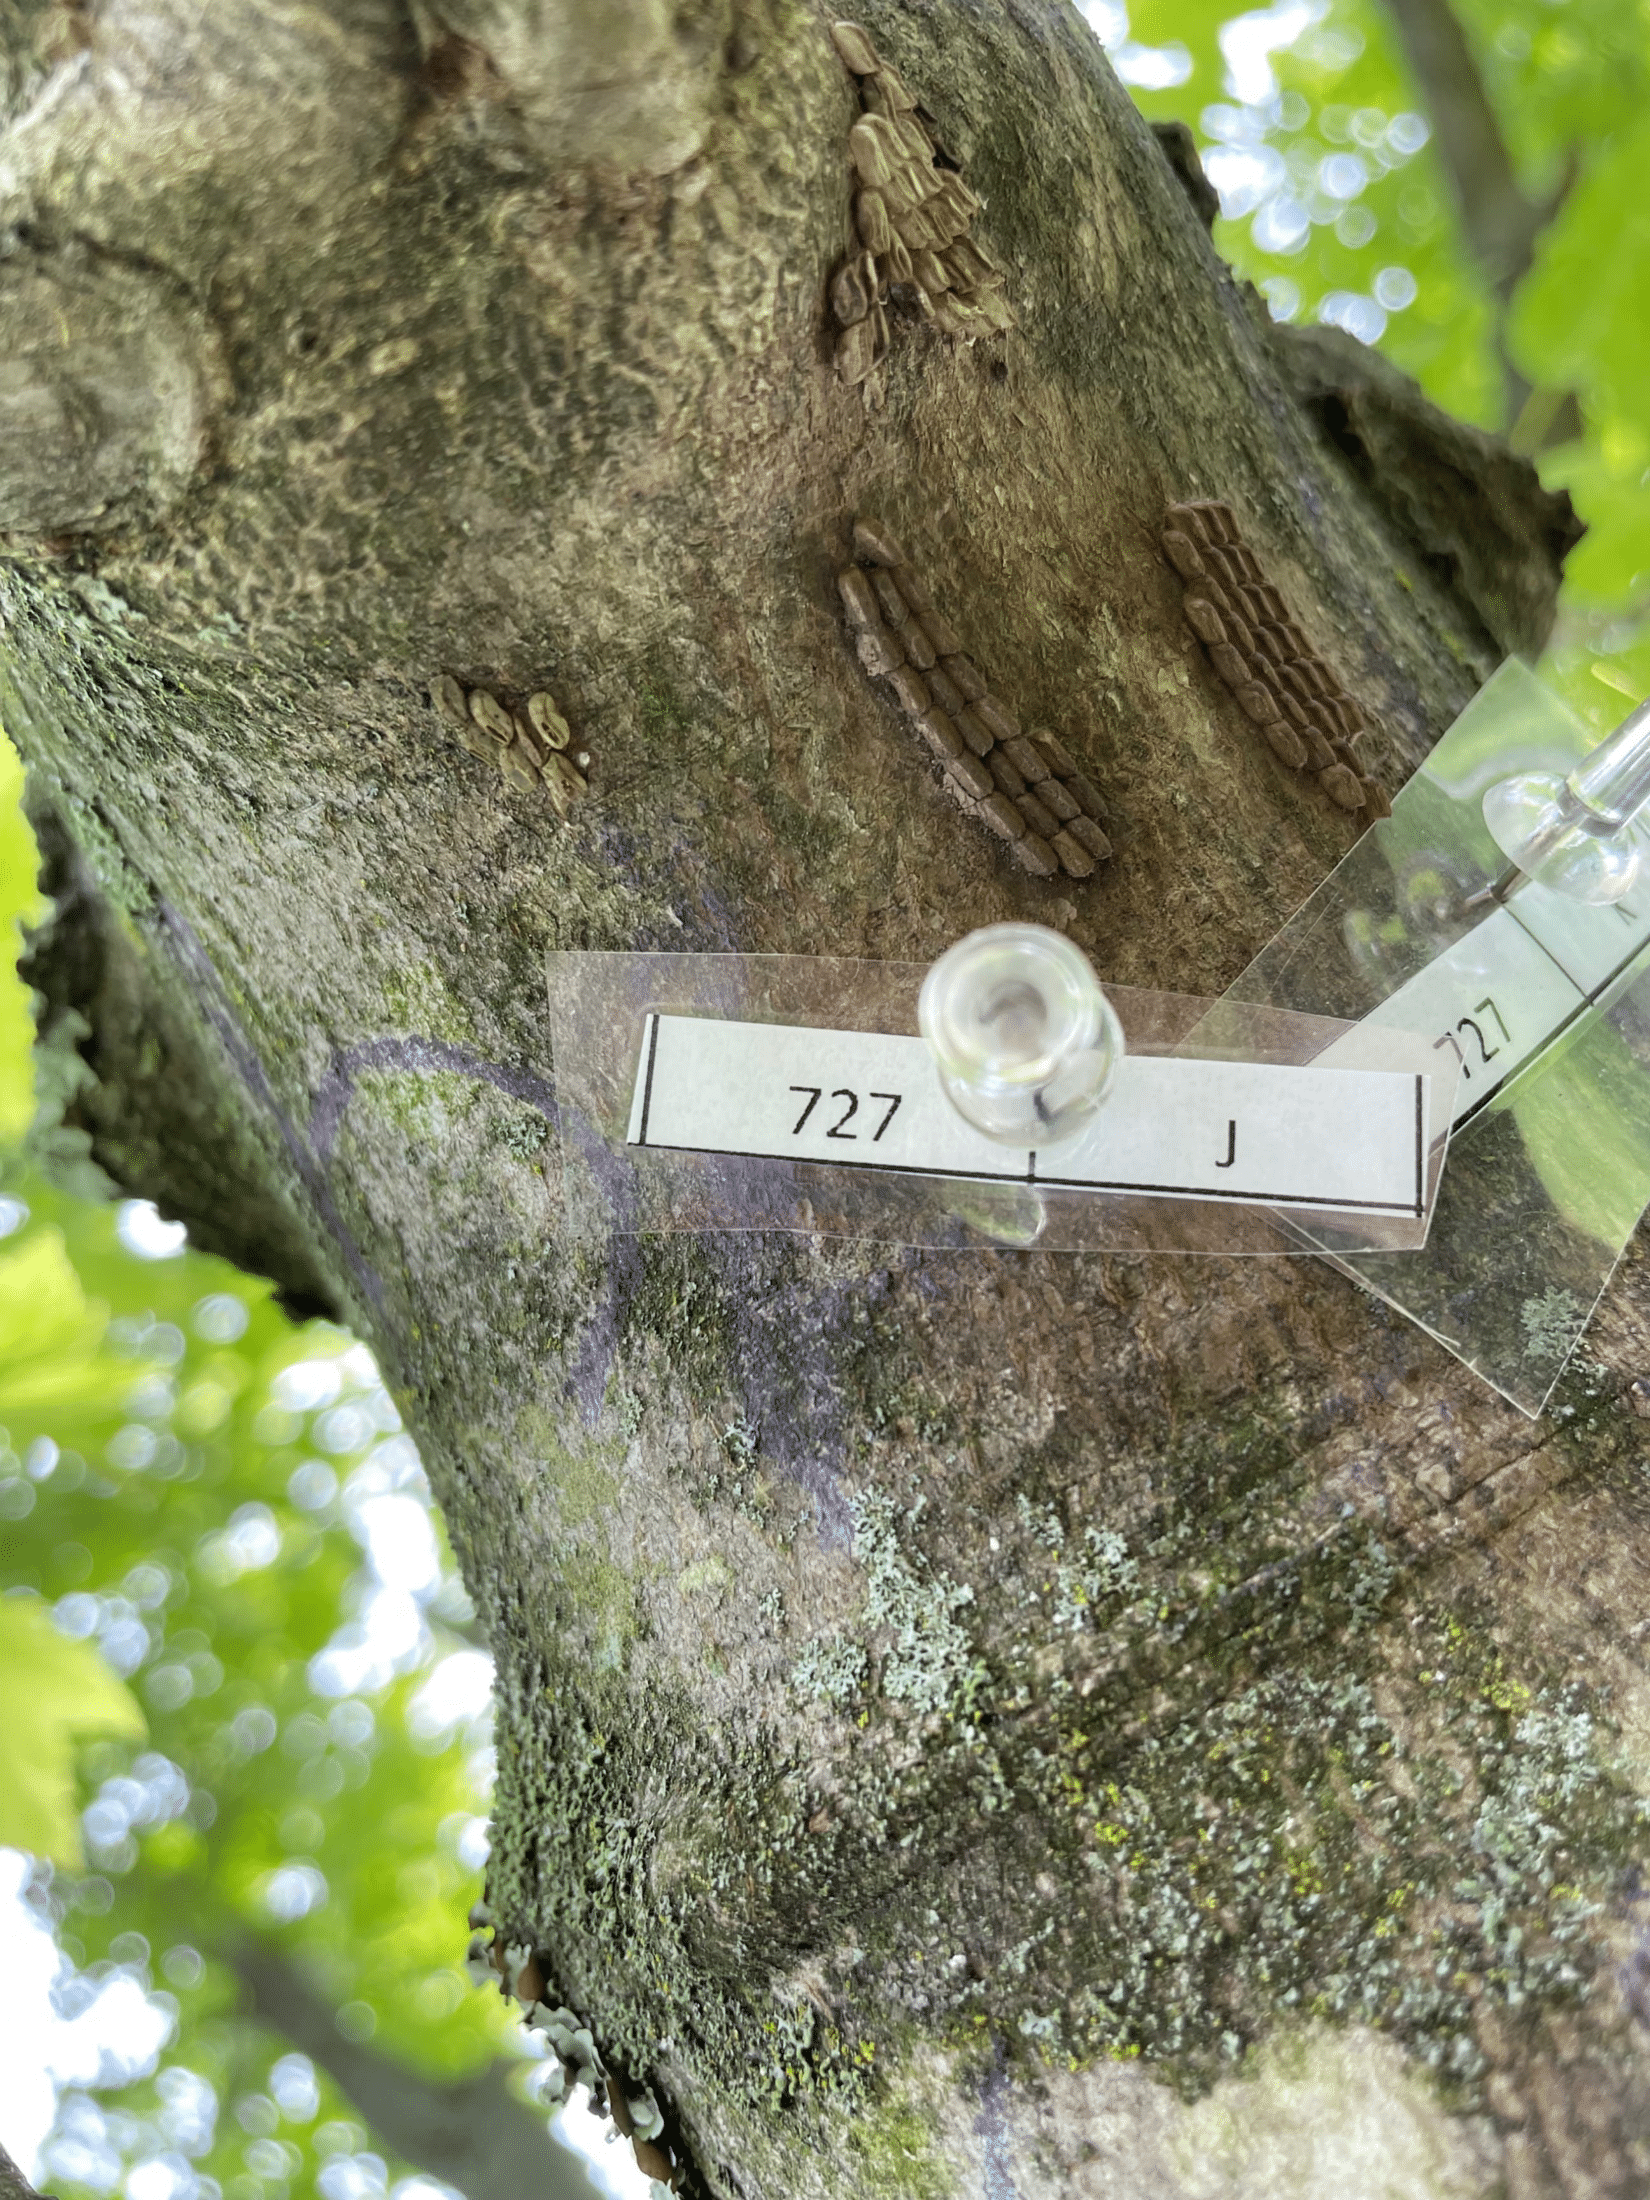egg masses: (802, 520, 1132, 885), (1125, 463, 1433, 823)
